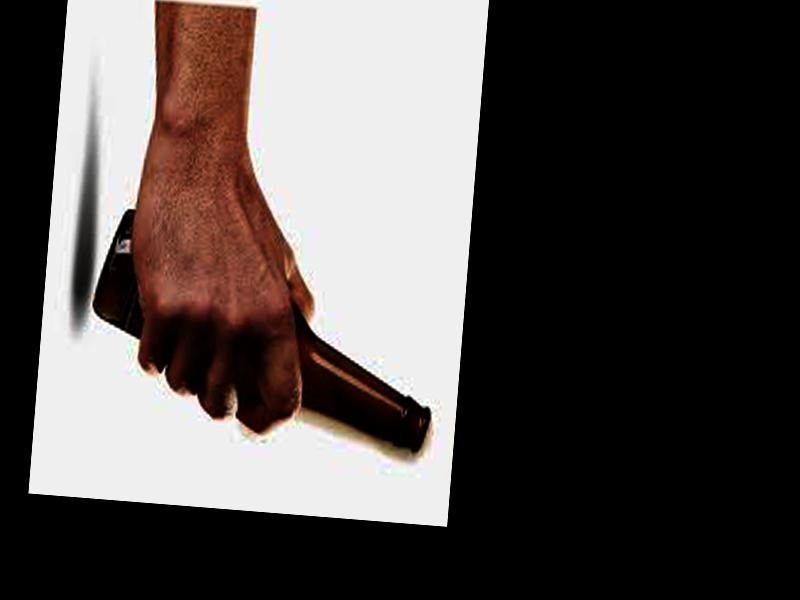Beer: (78, 207, 443, 453)
